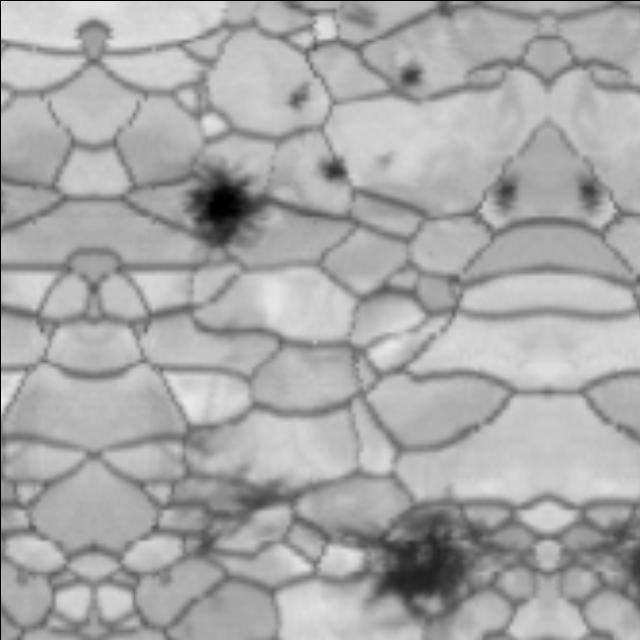good_void: (339, 475, 516, 640), (155, 145, 280, 274), (191, 458, 308, 561), (142, 393, 230, 480), (595, 485, 640, 628), (0, 407, 40, 463), (306, 149, 351, 187), (363, 137, 402, 180), (489, 168, 520, 217), (573, 170, 602, 219), (386, 63, 425, 94), (279, 81, 312, 115)
